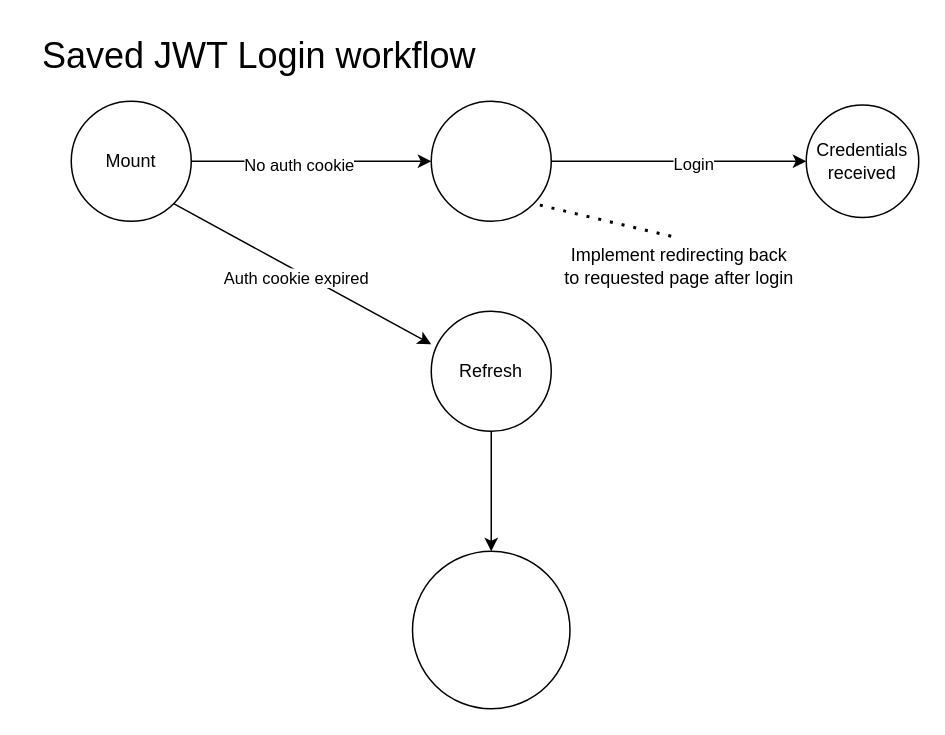
Image size: 945x735. Some labels were removed from this diagram. The centre of each missing label's shape, as x and y in pixels:
Navigate to originally requested page: the point at 490,629
Redirected to Login: the point at 490,160
